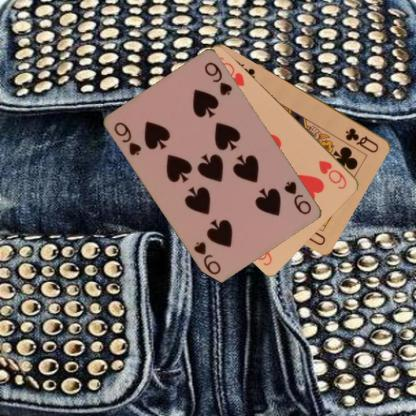6h: (316, 158, 348, 190)
9s: (280, 179, 313, 216), (112, 119, 144, 157)
Qc: (343, 125, 380, 154)
